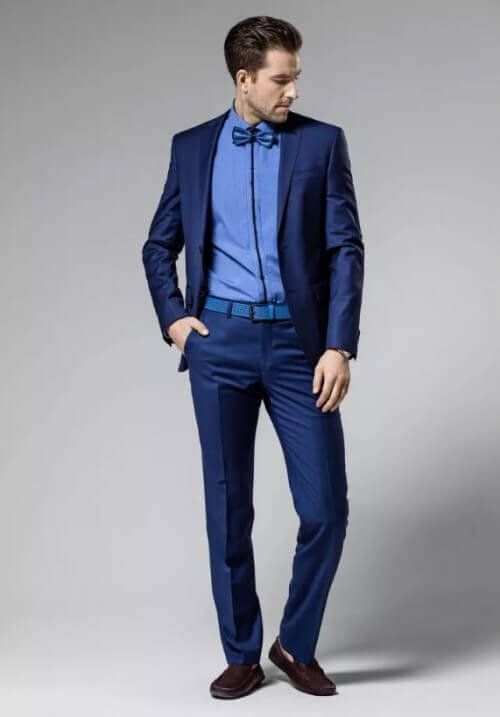bow: (228, 124, 282, 153)
